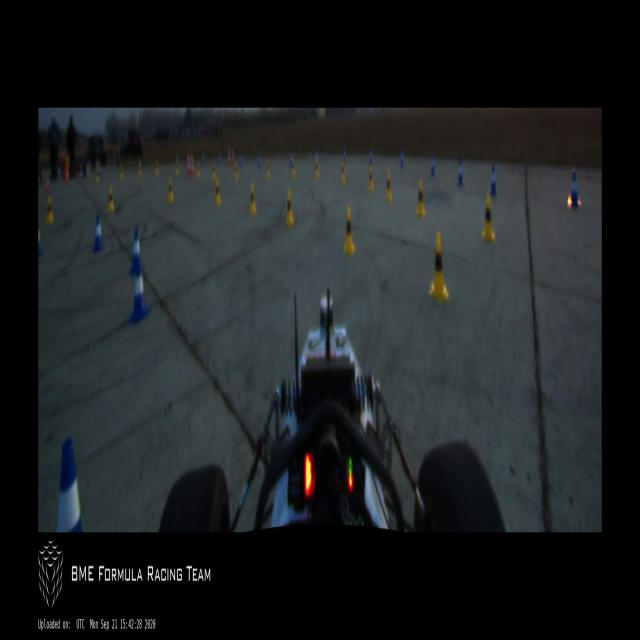blue_cone: (56, 436, 82, 532), (127, 258, 150, 322), (130, 224, 144, 276), (92, 214, 105, 254), (568, 170, 580, 208), (490, 164, 497, 196), (458, 158, 464, 185), (38, 225, 43, 257), (431, 155, 435, 176), (400, 150, 404, 168), (369, 150, 373, 165), (343, 150, 346, 162), (290, 152, 292, 166), (258, 155, 260, 167)
large_orange_cone: (190, 152, 195, 175), (186, 152, 190, 175), (231, 146, 235, 167), (227, 147, 230, 166)
orange_cone: (46, 177, 50, 192)
yellow_cone: (429, 231, 449, 303), (482, 194, 495, 241), (344, 206, 355, 255), (416, 180, 426, 217), (286, 190, 294, 226), (249, 184, 257, 216), (46, 196, 54, 223), (107, 187, 115, 211), (214, 178, 221, 204), (167, 179, 174, 203), (386, 172, 392, 200), (368, 166, 374, 192), (340, 161, 346, 182), (266, 159, 270, 178), (291, 158, 295, 177), (314, 160, 318, 178), (211, 163, 215, 179), (174, 161, 178, 177), (196, 163, 200, 177), (155, 162, 159, 176), (95, 169, 99, 182), (119, 166, 123, 179), (235, 163, 238, 180), (138, 165, 142, 176)
